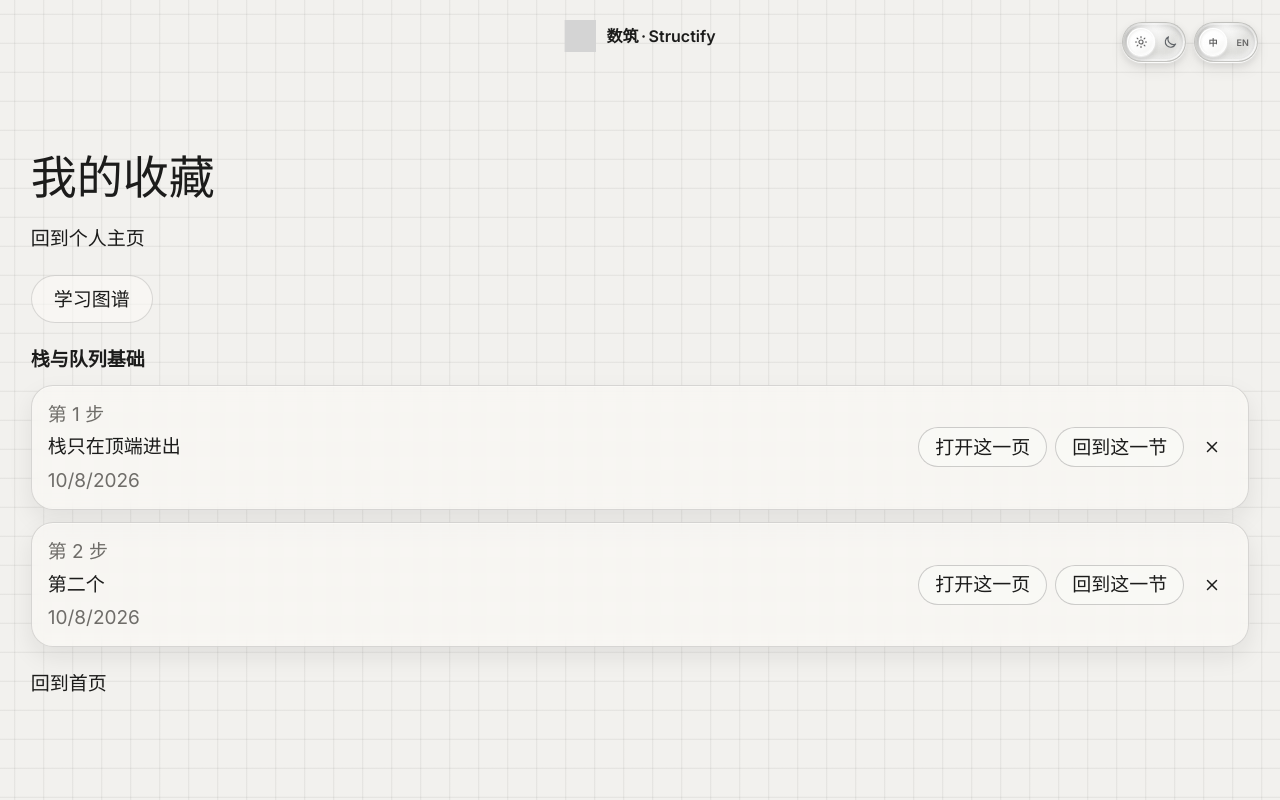
personal page › drops a bookmark the learner removes, and reports a failure instead of pretending
Click the button named "删除收藏" in the row of "栈只在顶端进出" at (1212, 447), box 1192,427 -> 1232,467
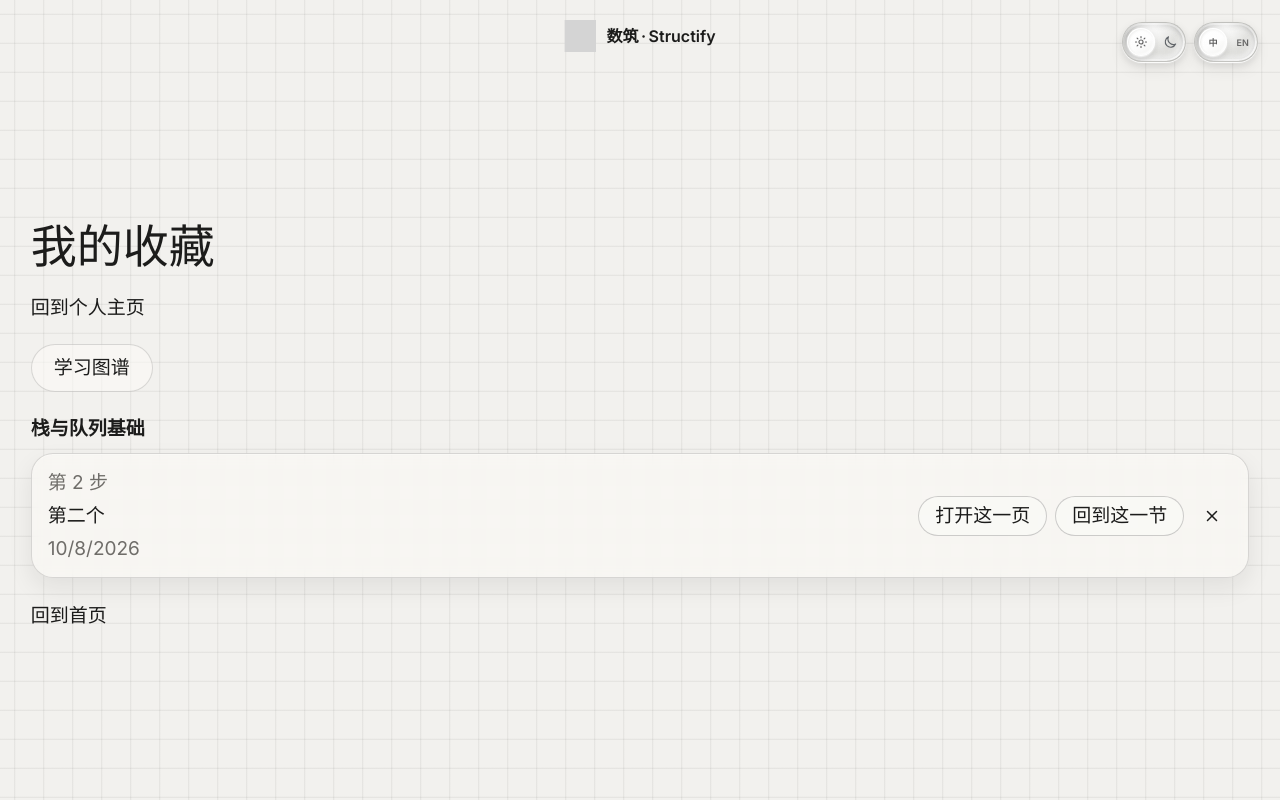
expect the number of list items is 1: met, box 31,453 -> 1249,579
Click the button named "删除收藏" at (1212, 516), box 1192,496 -> 1232,536
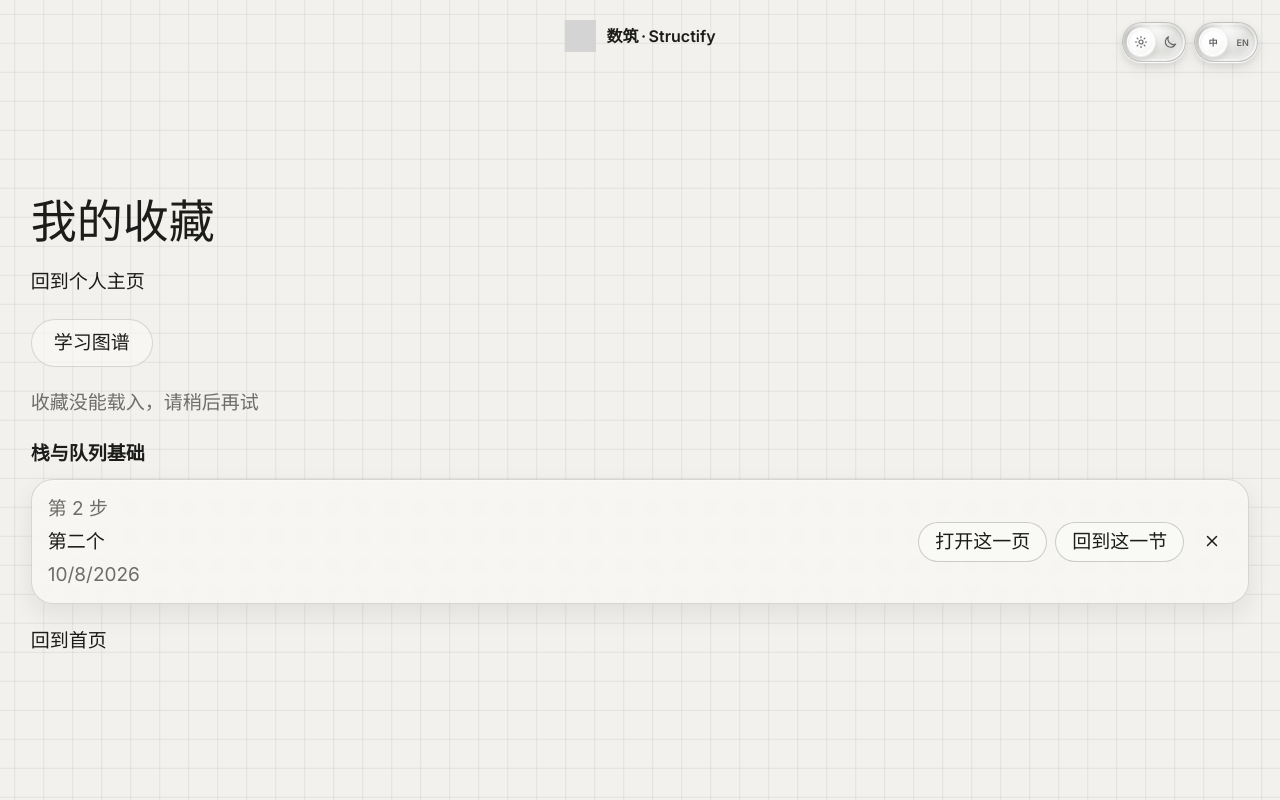
expect the number of list items is 1: met, box 31,479 -> 1249,604
expect the message "收藏没能载入，请稍后再试" is shown: met, box 31,389 -> 259,417
